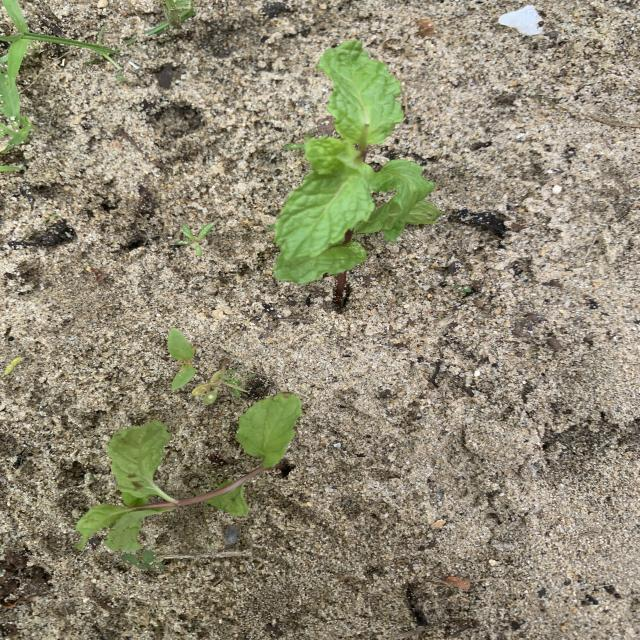crop: (273, 40, 439, 283), (76, 394, 300, 554)
weed: (0, 0, 119, 81), (0, 71, 31, 150), (168, 328, 195, 390), (192, 360, 226, 404), (175, 223, 211, 255), (224, 369, 253, 398), (121, 551, 164, 570), (2, 357, 21, 375)
